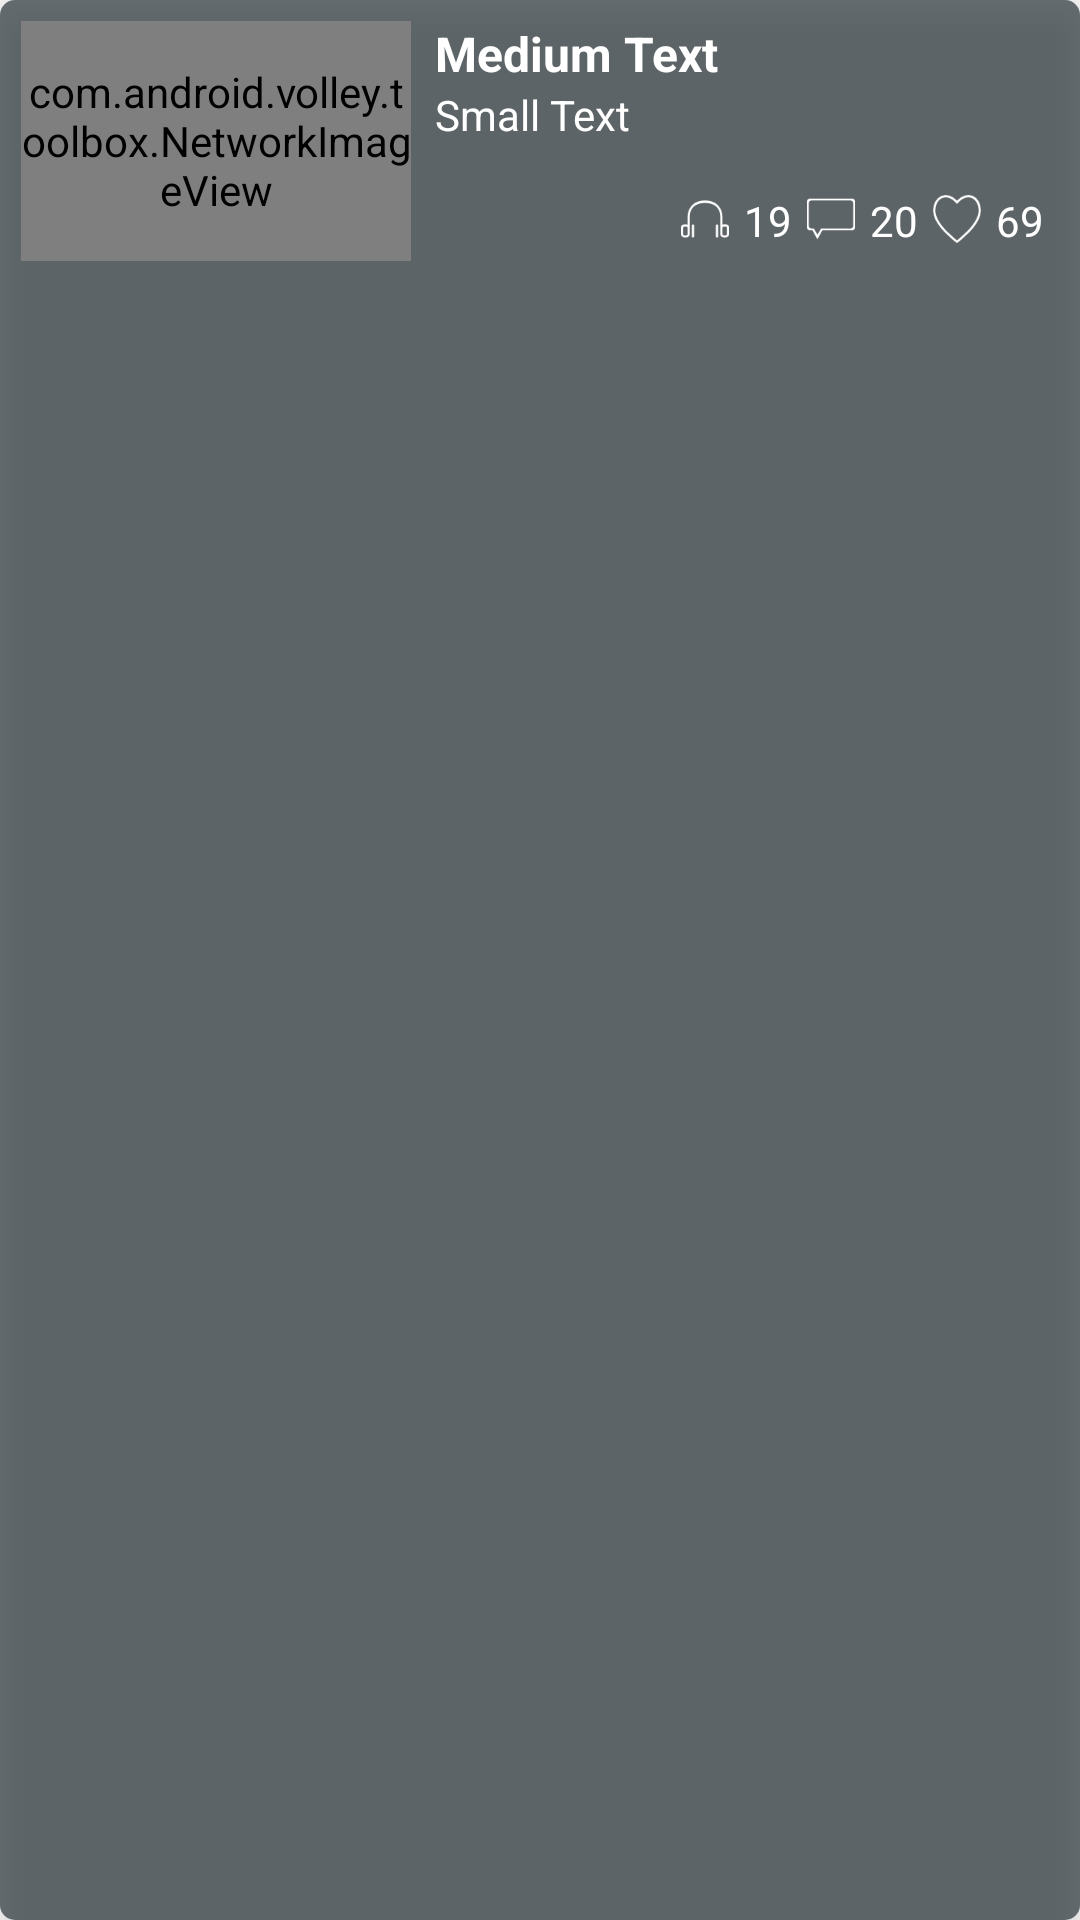

Locate icon controls on the screen. Image size 1080*1920, boxes as rect(x1, y1, x2, y2).
cmtic: rect(807, 198, 855, 239)
hpic: rect(681, 200, 729, 238)
likeic: rect(933, 195, 981, 243)
